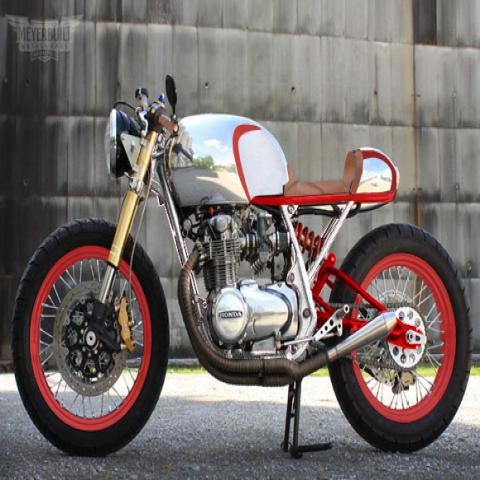motorcycle: (13, 70, 479, 465)
